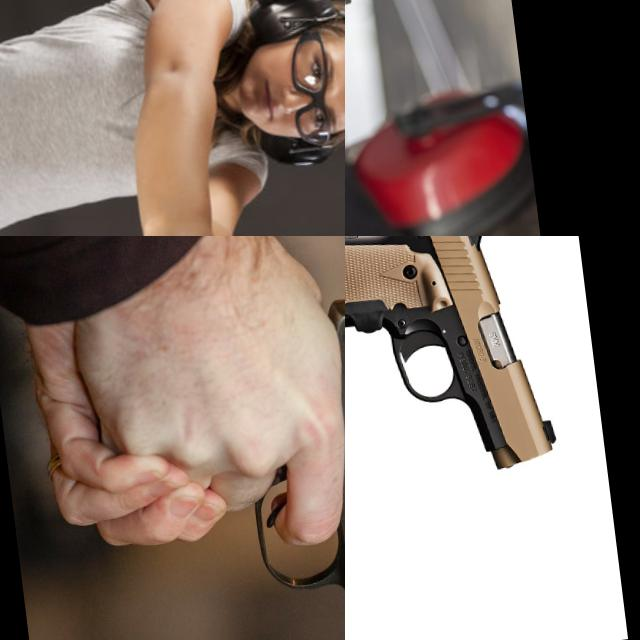handgun: (345, 236, 561, 498), (222, 274, 345, 640), (345, 0, 392, 60)
